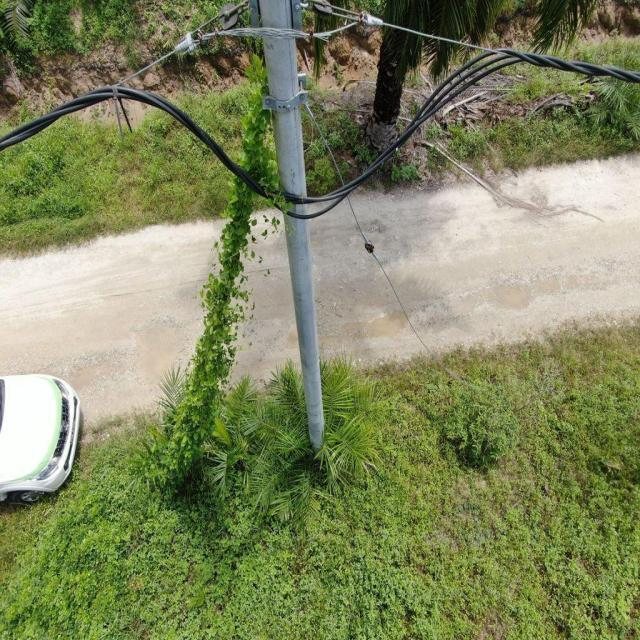critical vegetation: (142, 48, 286, 498)
